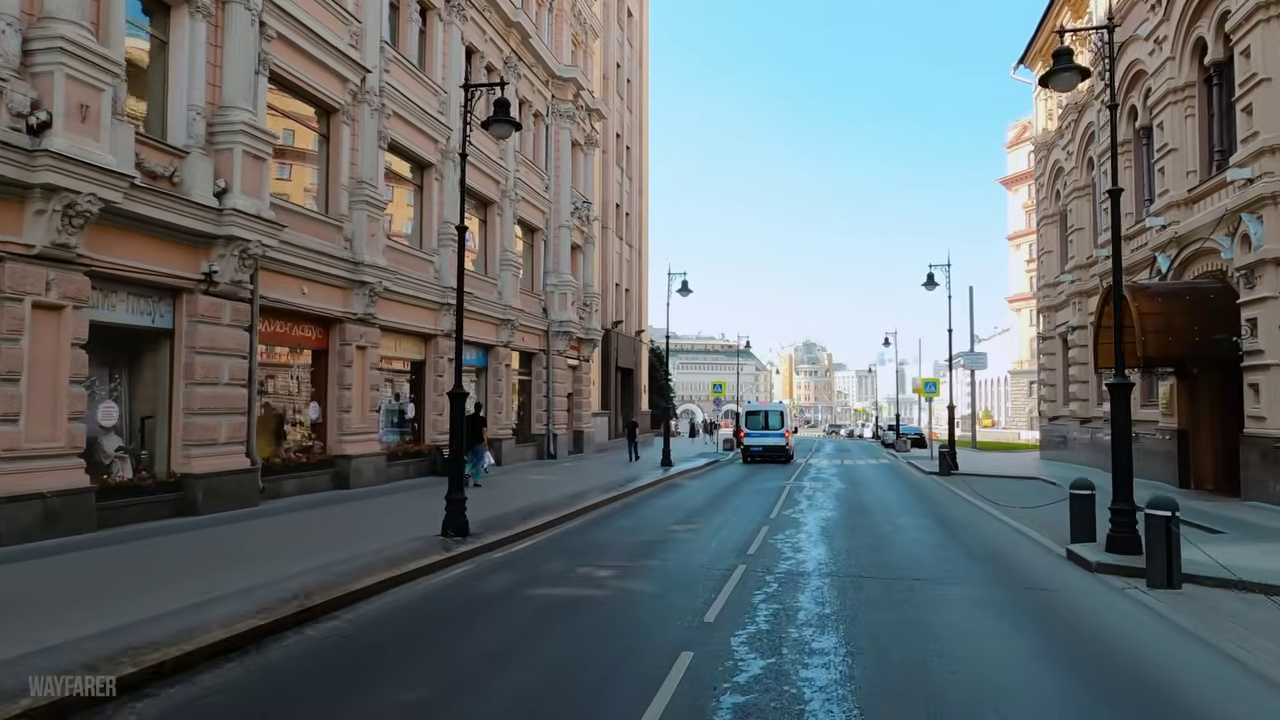apagada: (1045, 55, 1087, 92), (475, 113, 522, 141), (669, 276, 695, 302), (919, 270, 943, 297)
